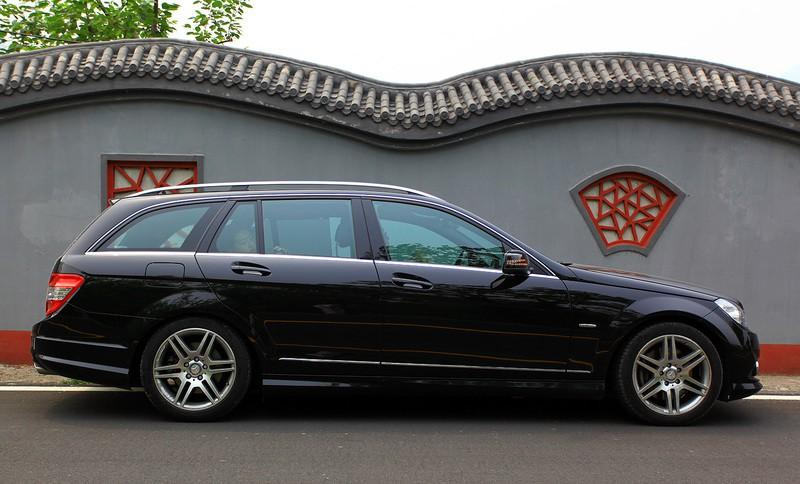Wagon: (29, 179, 763, 427)
